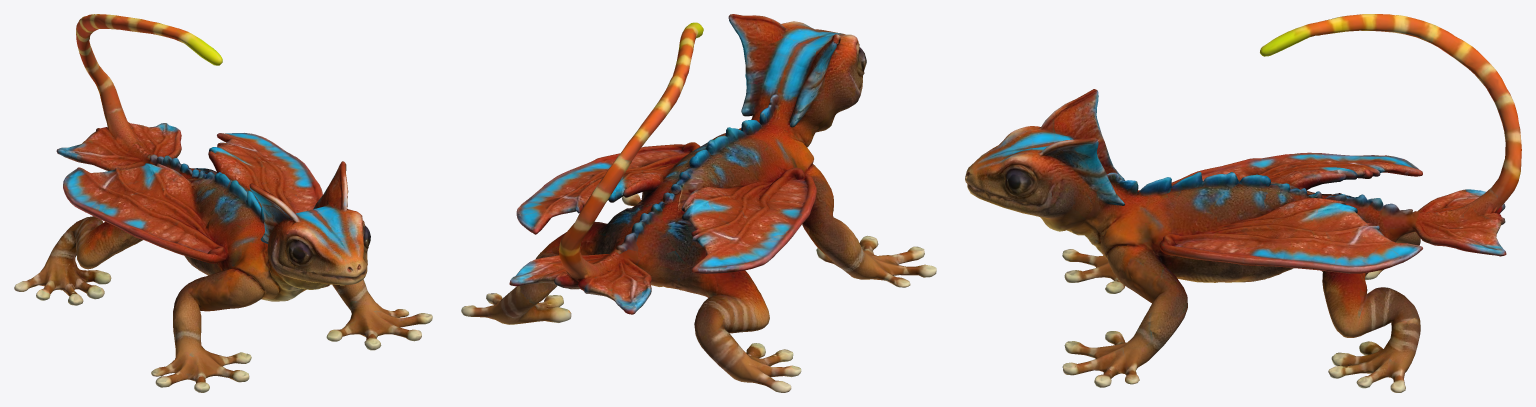
The model's file is chameleon.glb.
3 views of the same model, side by side, from view 1: azimuth 30°, elevation 25°; view 2: azimuth 150°, elevation 25°; view 3: azimuth 270°, elevation 25° (orthographic). The views are drawn at different scales.
Size of the model in its own units: 1.25 by 1.07 by 1.9.
1 material, 1 textured.
